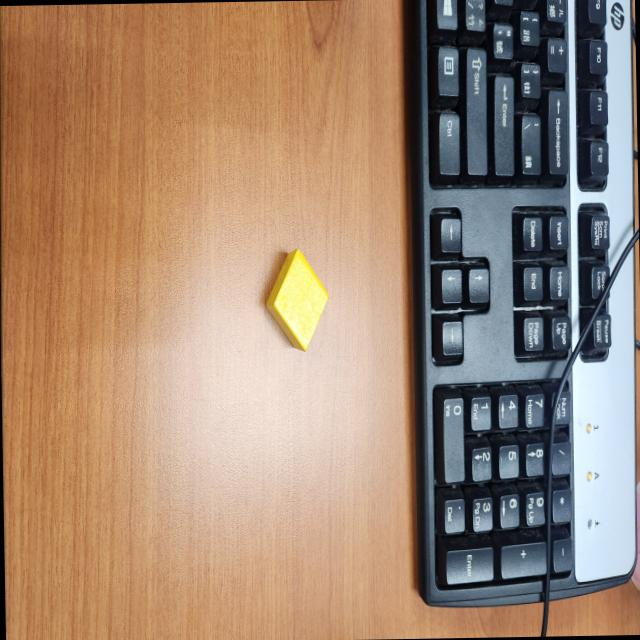yellow: (265, 250, 329, 353)
